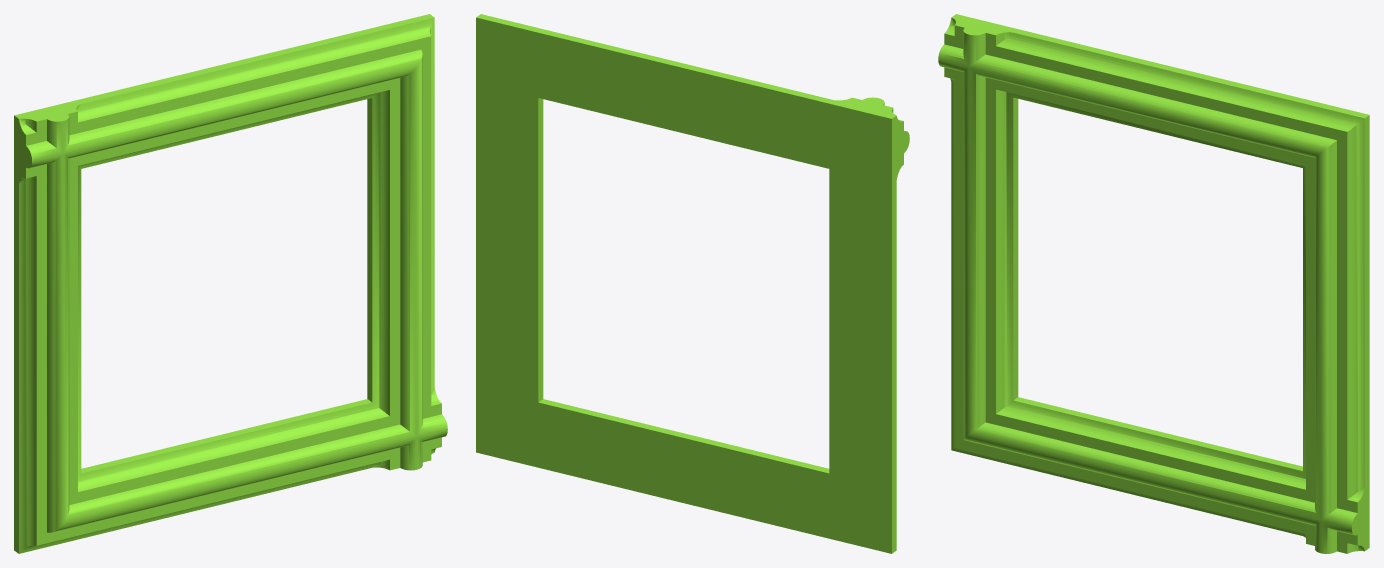
The picture shows the model from 3 angles, left to right: view 1: azimuth 30°, elevation 25°; view 2: azimuth 150°, elevation 25°; view 3: azimuth 330°, elevation 25°; orthographic projection.
Visible parts, largest first — view 1: Object_3; view 2: Object_3; view 3: Object_3.
Boxes of the visible parts, x1=… form: Object_3: x1=14, y1=14, x2=447, y2=553; Object_3: x1=476, y1=14, x2=909, y2=553; Object_3: x1=938, y1=14, x2=1369, y2=553.
Bounding box in the file's own units: 1 × 1 × 0.075.
